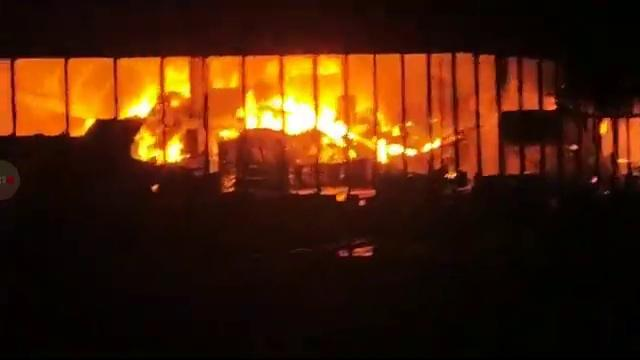fire: (246, 99, 348, 138), (127, 91, 150, 121), (164, 139, 187, 165)
